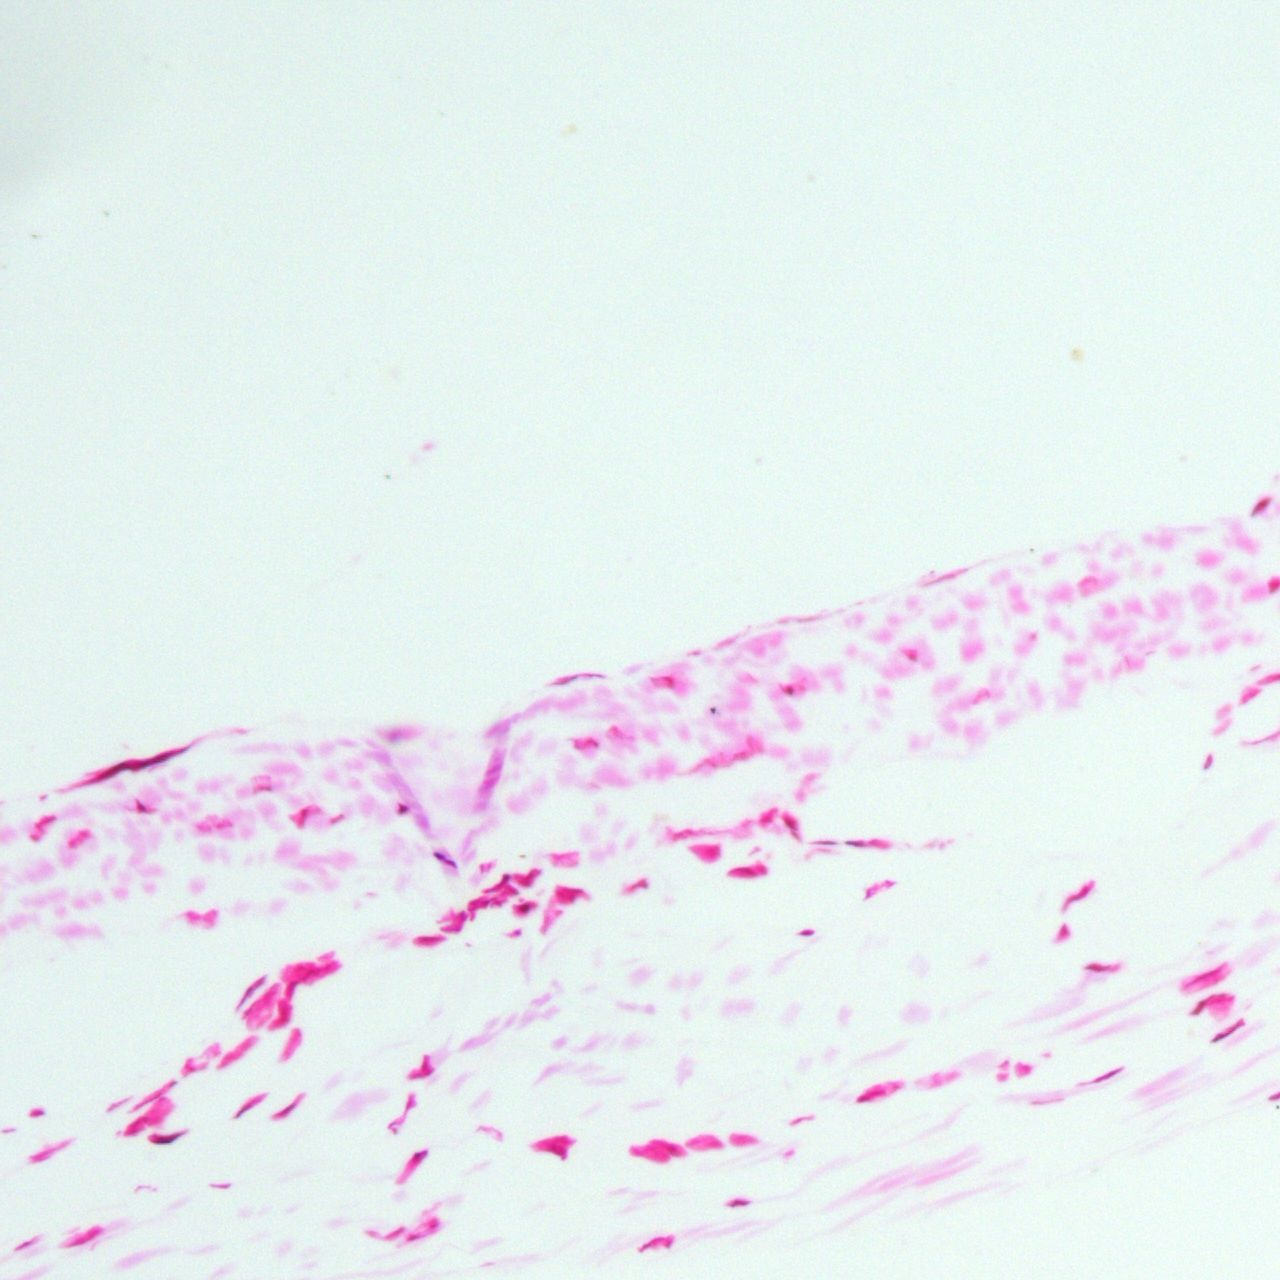dust: (382, 472, 392, 482)
nucleus-FG: (81, 738, 191, 789), (122, 1103, 166, 1141), (215, 1033, 259, 1070), (231, 971, 270, 1012), (1177, 964, 1226, 993), (132, 1081, 175, 1112), (396, 1145, 427, 1189), (32, 1135, 74, 1164), (627, 1141, 670, 1167), (1210, 1016, 1250, 1046), (527, 1133, 572, 1159), (1190, 990, 1228, 1017), (849, 1081, 888, 1107), (1061, 879, 1094, 910), (278, 1026, 304, 1063), (651, 1137, 685, 1160), (484, 872, 512, 898), (547, 672, 606, 683), (1089, 1065, 1123, 1085), (515, 865, 542, 890), (1248, 493, 1273, 520), (70, 1228, 101, 1250), (408, 1054, 433, 1080), (636, 1237, 676, 1252), (445, 908, 469, 934), (232, 1097, 259, 1119), (12, 1231, 41, 1251), (429, 851, 459, 870), (554, 885, 583, 905), (366, 1227, 404, 1241), (292, 965, 325, 980), (148, 1131, 186, 1144), (275, 1099, 297, 1121), (35, 810, 60, 828), (281, 978, 299, 1001), (622, 877, 648, 892), (1082, 960, 1115, 972), (295, 806, 309, 830), (728, 865, 755, 877), (701, 845, 721, 860), (568, 737, 599, 747), (781, 813, 797, 830), (279, 1001, 291, 1023), (760, 809, 774, 826), (417, 935, 445, 944), (468, 897, 486, 908), (806, 839, 840, 845), (427, 1216, 440, 1231), (726, 1199, 753, 1206), (844, 839, 865, 847), (135, 801, 148, 813), (790, 830, 803, 843), (209, 1182, 232, 1189), (406, 1233, 425, 1241), (661, 675, 673, 687), (184, 1060, 195, 1073), (517, 903, 530, 913), (784, 686, 796, 696), (397, 803, 407, 813), (799, 930, 812, 937), (30, 1109, 46, 1115)
